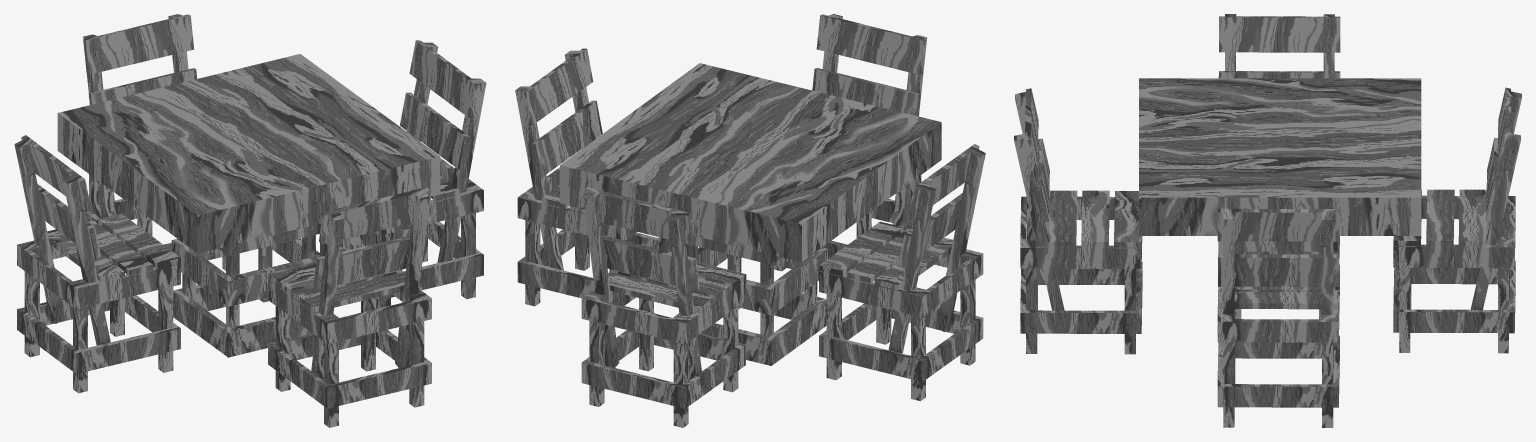
The model's file is mesa.glb.
3 views of the same model, side by side, from view 1: azimuth 30°, elevation 25°; view 2: azimuth 150°, elevation 25°; view 3: azimuth 270°, elevation 25° (orthographic).
Parts seen in each view (by area): view 1: Cube.008, Cube; view 2: Cube.008, Cube; view 3: Cube.008, Cube.
Part boxes in pixels (<box>): Cube.008: <box>14,14,486,427</box>; Cube: <box>57,54,440,357</box>; Cube.008: <box>515,14,985,427</box>; Cube: <box>560,63,941,365</box>; Cube.008: <box>1014,14,1521,427</box>; Cube: <box>1139,78,1421,319</box>.
Size of the model in its own units: 3.45 by 1.7 by 3.6.
1 material, 1 textured.
